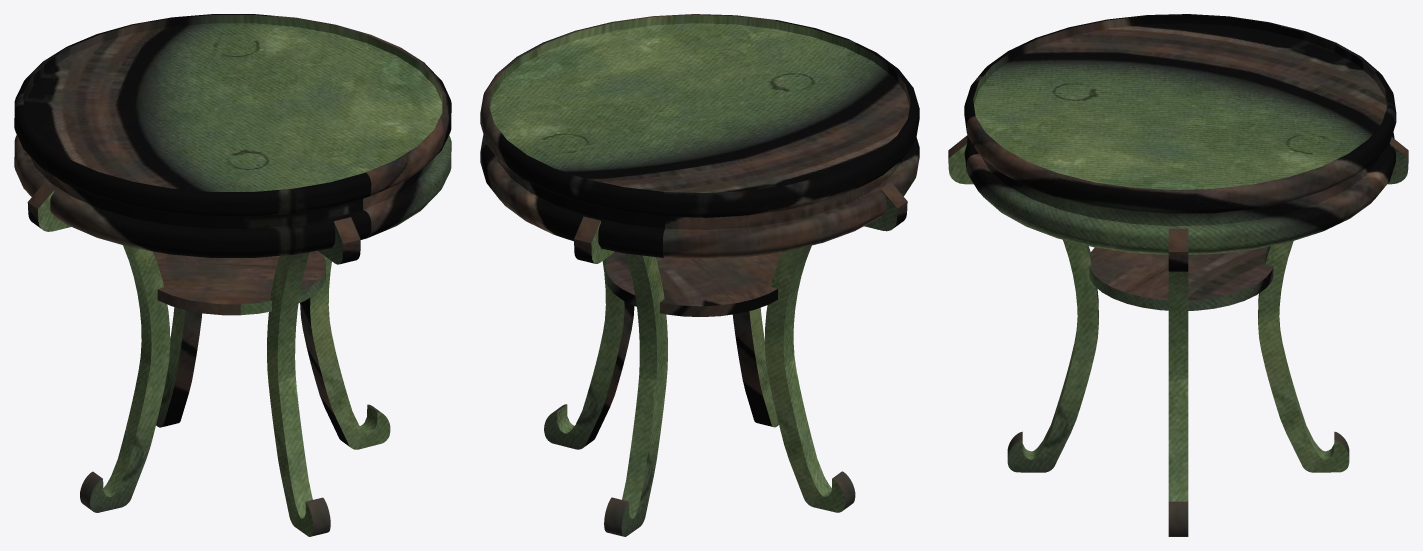
File: tableLow.fbx
3 renders of one model, left to right at view 1: azimuth 30°, elevation 25°; view 2: azimuth 150°, elevation 25°; view 3: azimuth 270°, elevation 25°, orthographic.
Parts seen in each view (by area): view 1: Wooden table; view 2: Wooden table; view 3: Wooden table.
Part boxes in pixels (bbox=[...]): Wooden table: bbox=[14, 14, 451, 536]; Wooden table: bbox=[480, 14, 919, 536]; Wooden table: bbox=[948, 14, 1408, 536].
Size of the model in its own units: 169 by 148 by 169.
1 material, 1 textured.
